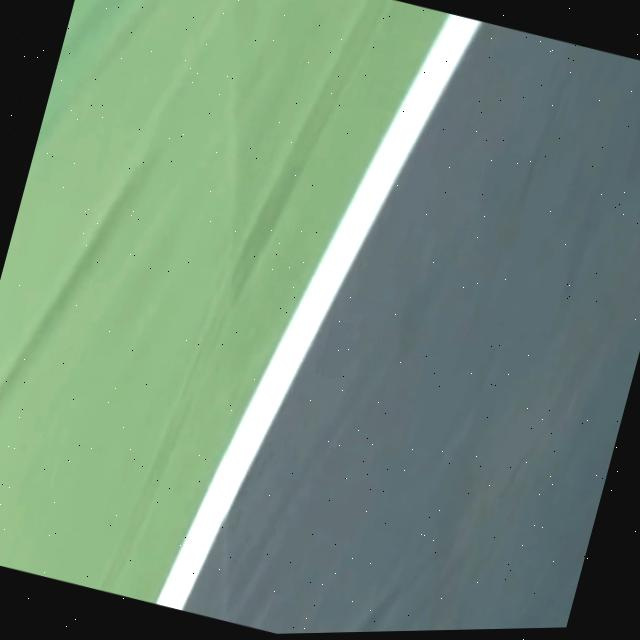right: (156, 13, 482, 610)
